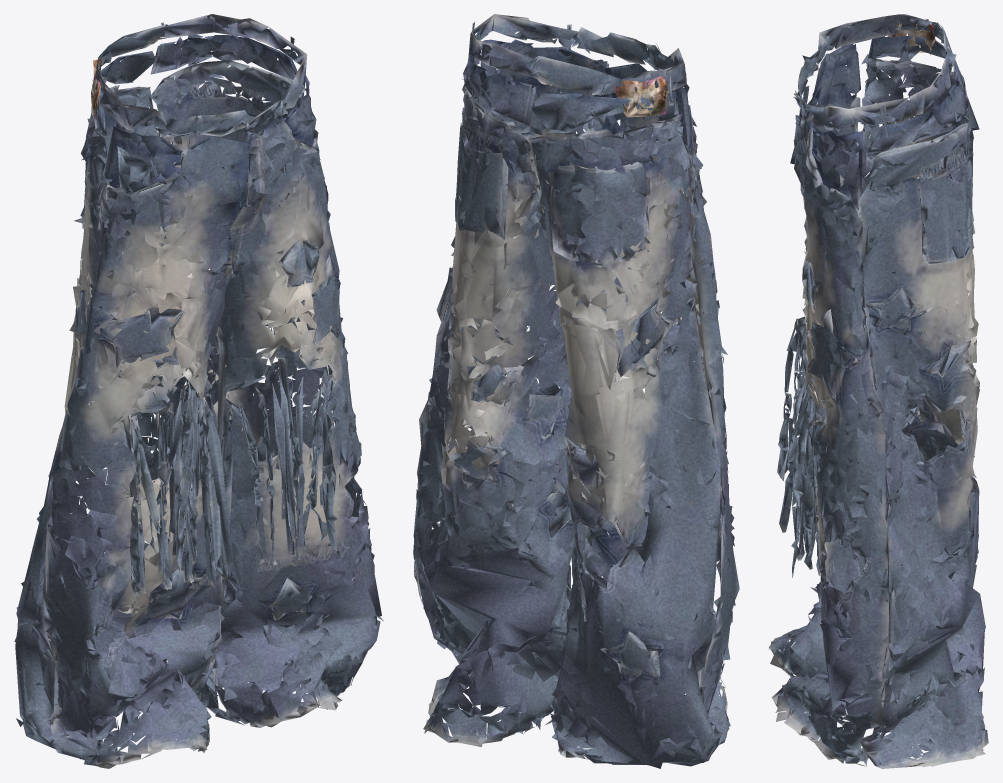
File: baggy_jeans.glb
The picture shows the model from 3 angles, left to right: view 1: azimuth 30°, elevation 25°; view 2: azimuth 150°, elevation 25°; view 3: azimuth 270°, elevation 25°; orthographic projection. The views are drawn at different scales.
Parts seen in each view (by area): view 1: baggy_jeans; view 2: baggy_jeans; view 3: baggy_jeans.
Boxes of the visible parts, left/top/right/bottom form: baggy_jeans: left=14, top=14, right=383, bottom=768; baggy_jeans: left=413, top=14, right=739, bottom=768; baggy_jeans: left=768, top=14, right=988, bottom=768.
Size of the model in its own units: 0.5081 by 1.02 by 0.3056.
Materials: 1 (1 with a texture image).
